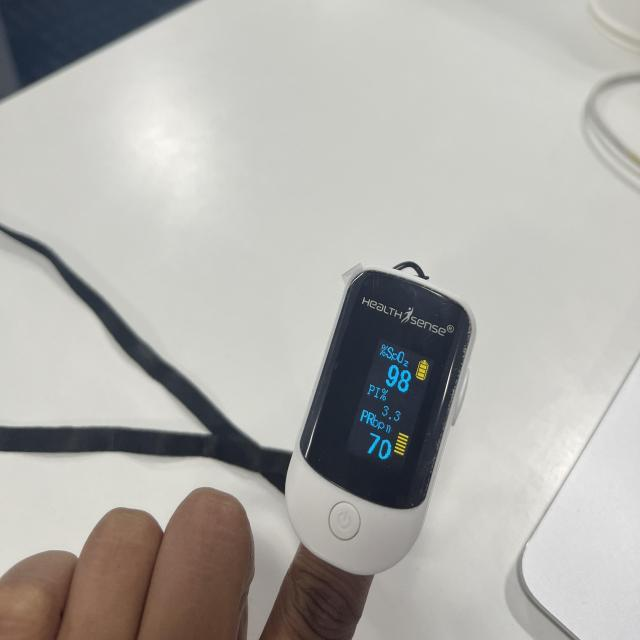spo2: (283, 269, 476, 582)
